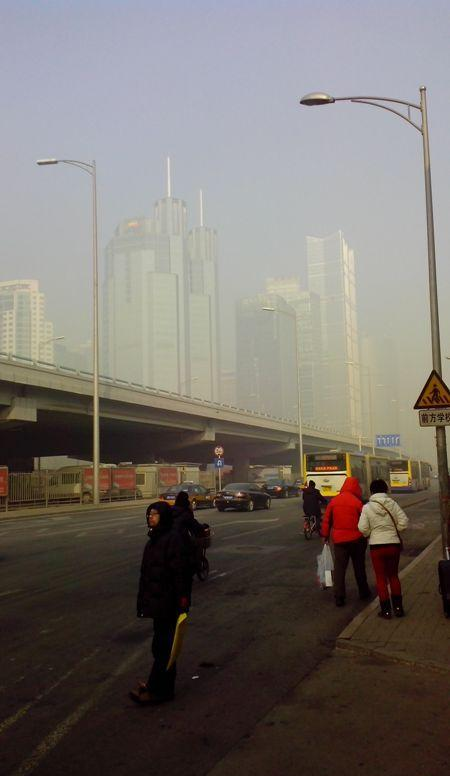bicycle: (302, 497, 328, 541)
bus: (302, 448, 393, 502), (382, 457, 432, 492)
car: (42, 462, 120, 497), (213, 480, 271, 512), (157, 479, 217, 508), (257, 477, 300, 497)
motorbike: (149, 520, 212, 582)
person: (127, 501, 189, 705), (357, 478, 410, 620), (319, 475, 372, 608), (165, 490, 206, 584), (301, 479, 328, 534)
